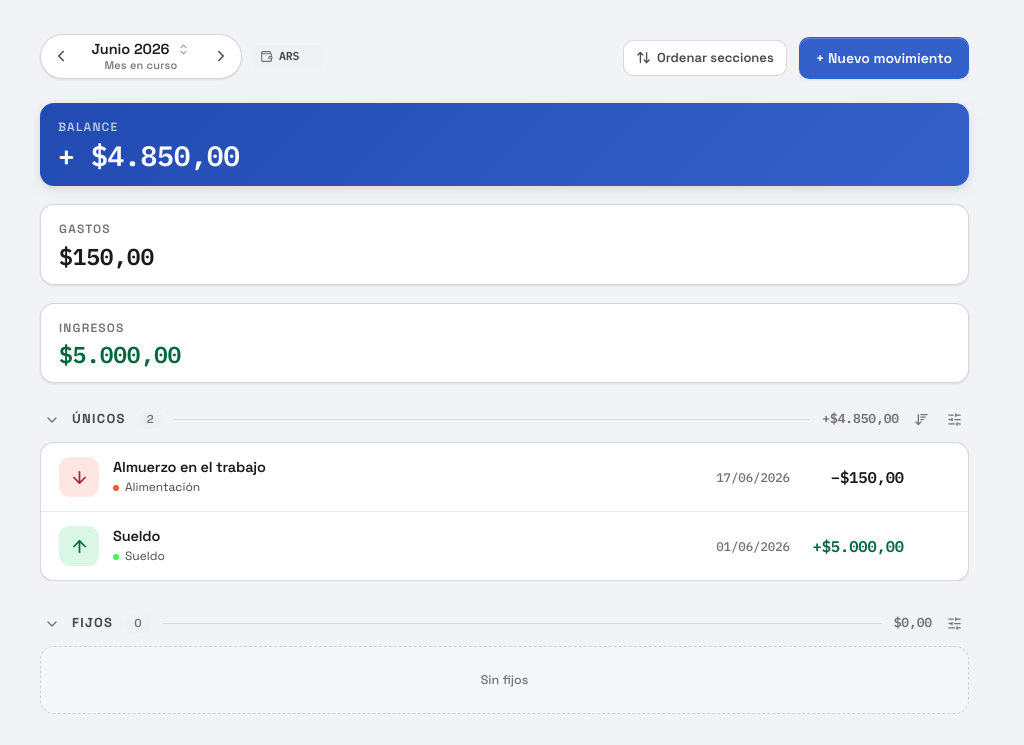
Scenario: MonthViewClient › Fase 1.1.4 P6 — Modo orden › al entrar al modo orden, el botón cambia a 'Listo'
Click the button "Ordenar secciones" at (705, 58), box [623,40,787,76]
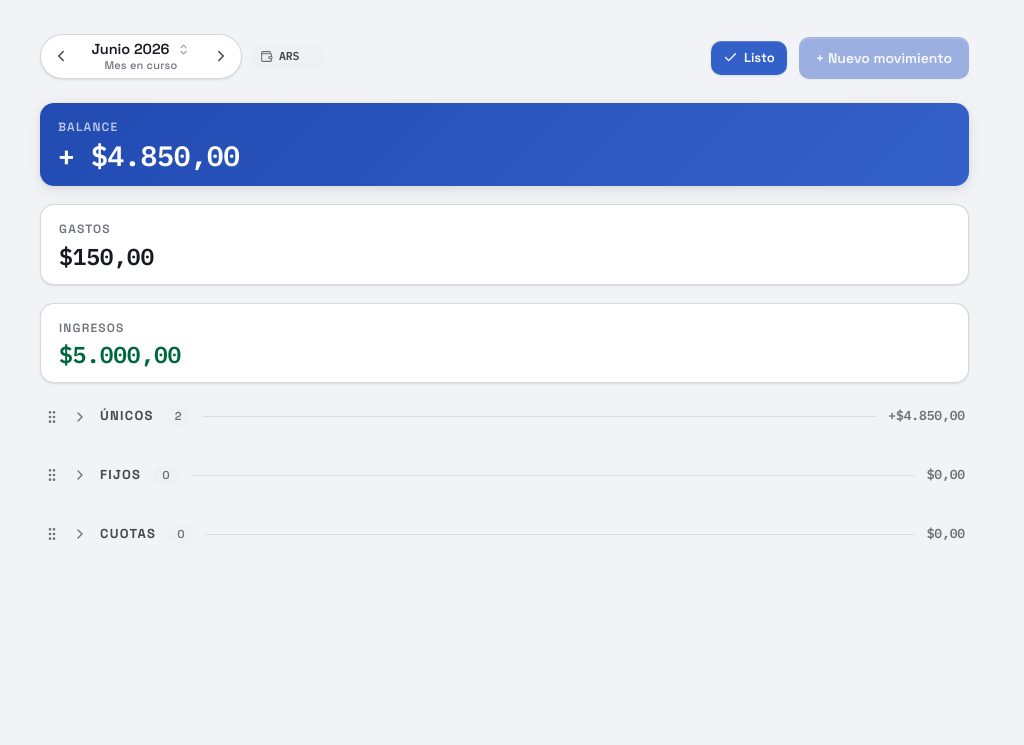
Expected: the button "Listo" is shown, [711,40,787,75]
Expected: the button "Ordenar secciones" is gone
